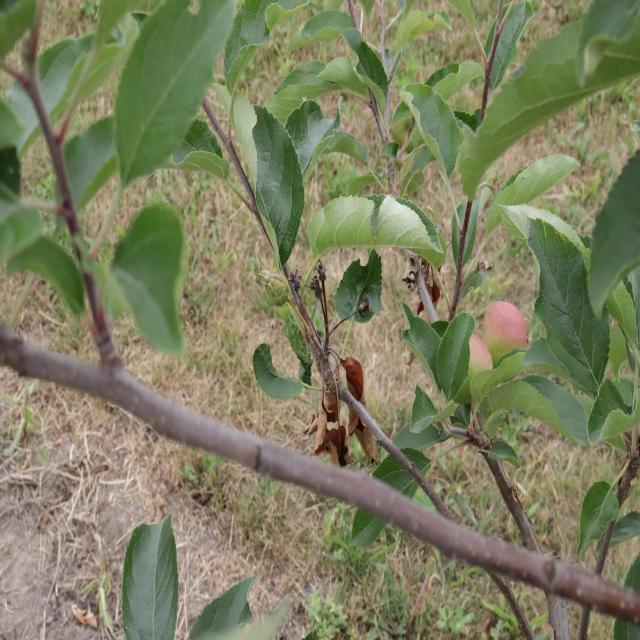-FireBlight-: (316, 338, 376, 466)
